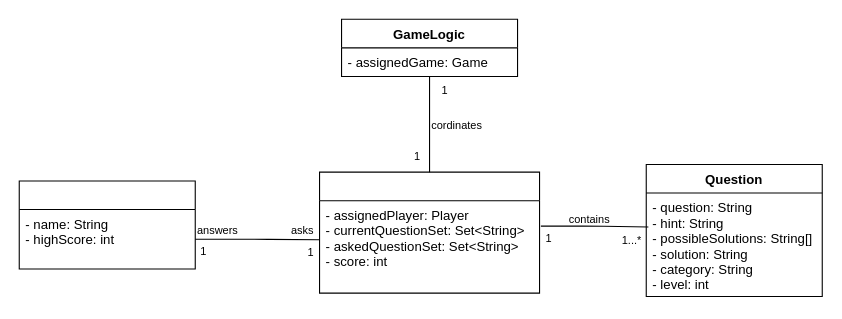
Some shapes in this 842 by 319 pixel diagram are drawn without their labels. The box of each missing label's shape, as (x1, y1, x2, y2) in pixels:
Game: (318, 171, 540, 293)
Player: (18, 180, 195, 269)
